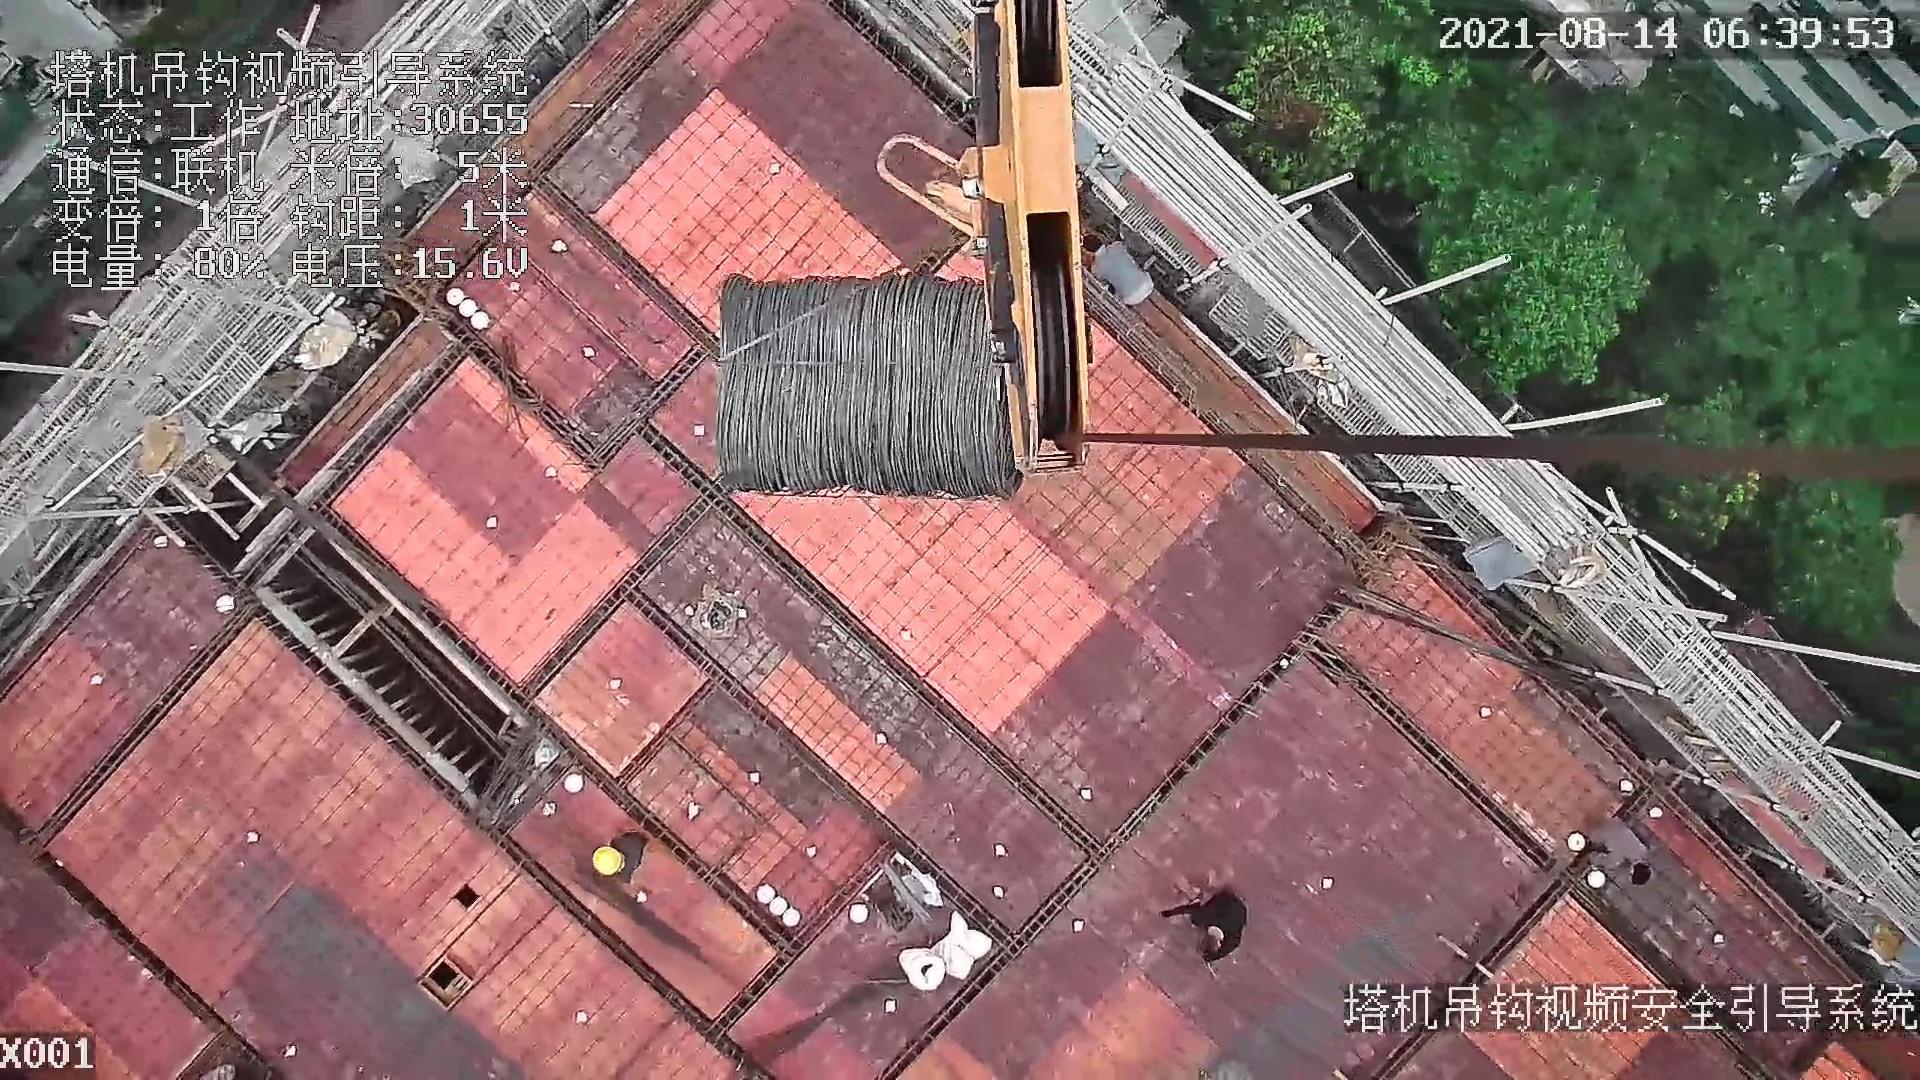helmet: (587, 836, 626, 883)
hook: (873, 1, 1101, 476)
person: (1158, 887, 1256, 964), (1579, 818, 1662, 897), (588, 824, 654, 880)
